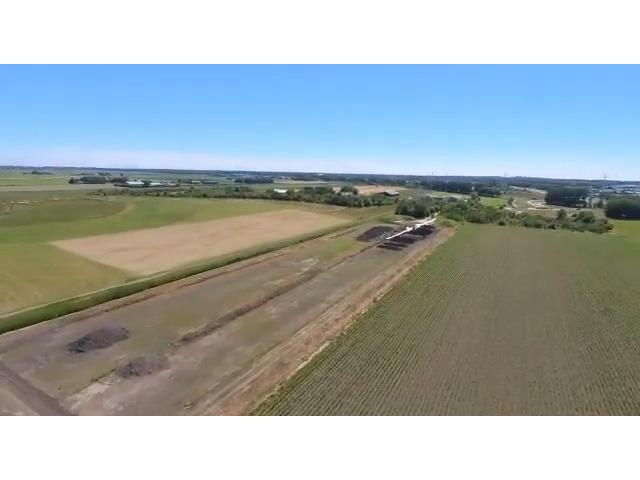Anti-Drone: (378, 207, 450, 251)
